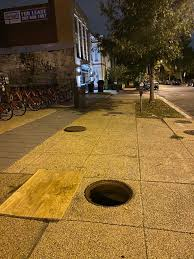Manhole-Closed: (63, 120, 98, 138)
Manhole-Open: (81, 174, 139, 213)
